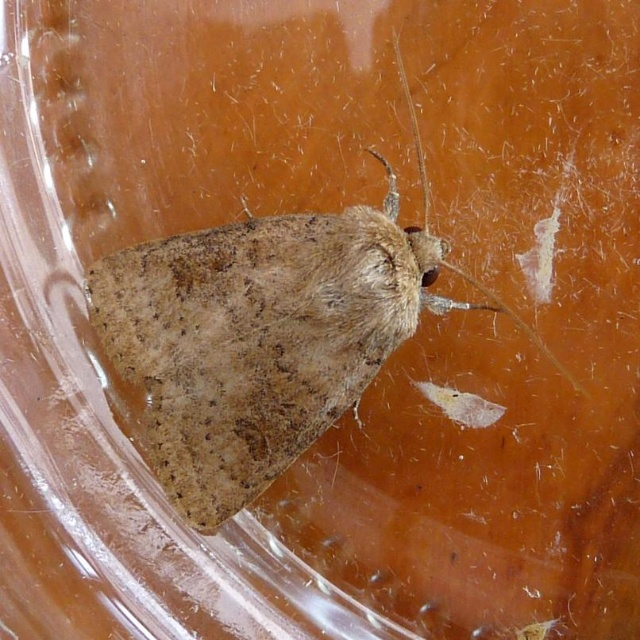Moths and butterflies: (83, 26, 601, 533)
